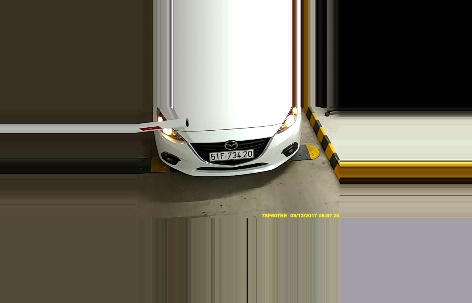plate: (208, 149, 256, 160)
